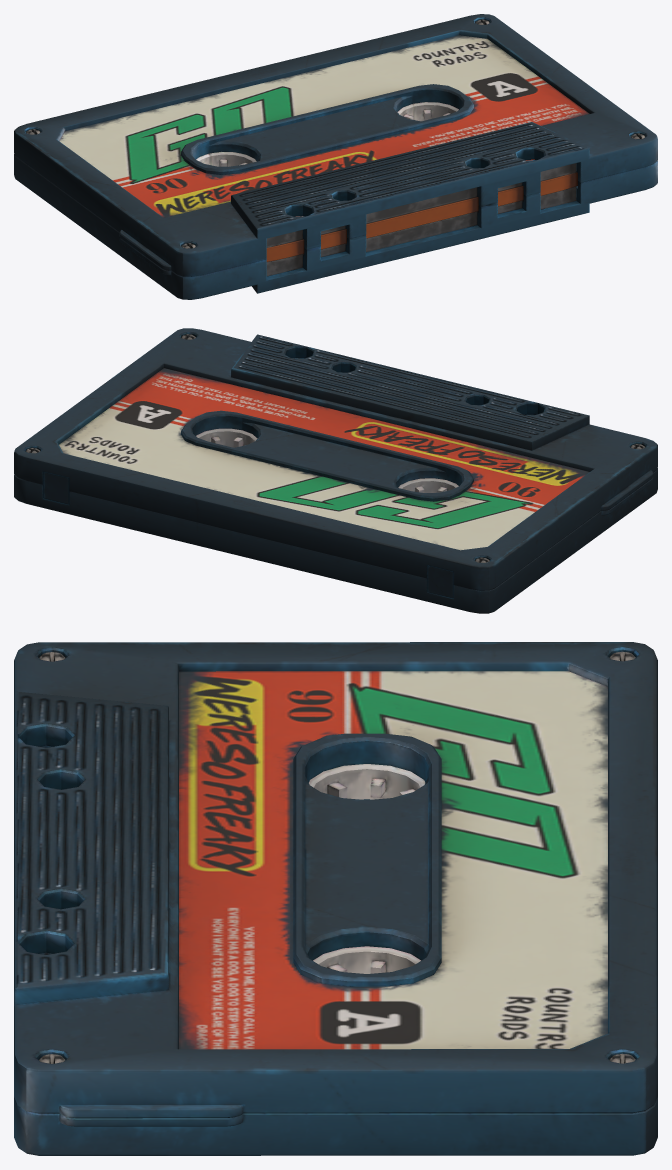
File: cassette_tape.glb
3 views of the same model, one above another, from view 1: azimuth 30°, elevation 25°; view 2: azimuth 150°, elevation 25°; view 3: azimuth 270°, elevation 25° (orthographic). The views are drawn at different scales.
Visible parts, largest first — view 1: tapeFinal; view 2: tapeFinal; view 3: tapeFinal.
Boxes of the visible parts, <box> form: tapeFinal: <box>14,14,657,299</box>; tapeFinal: <box>14,328,657,613</box>; tapeFinal: <box>14,642,657,1155</box>.
Bounding box in the file's own units: 2.69 × 0.3425 × 1.67.
Materials: 1 (1 with a texture image).
